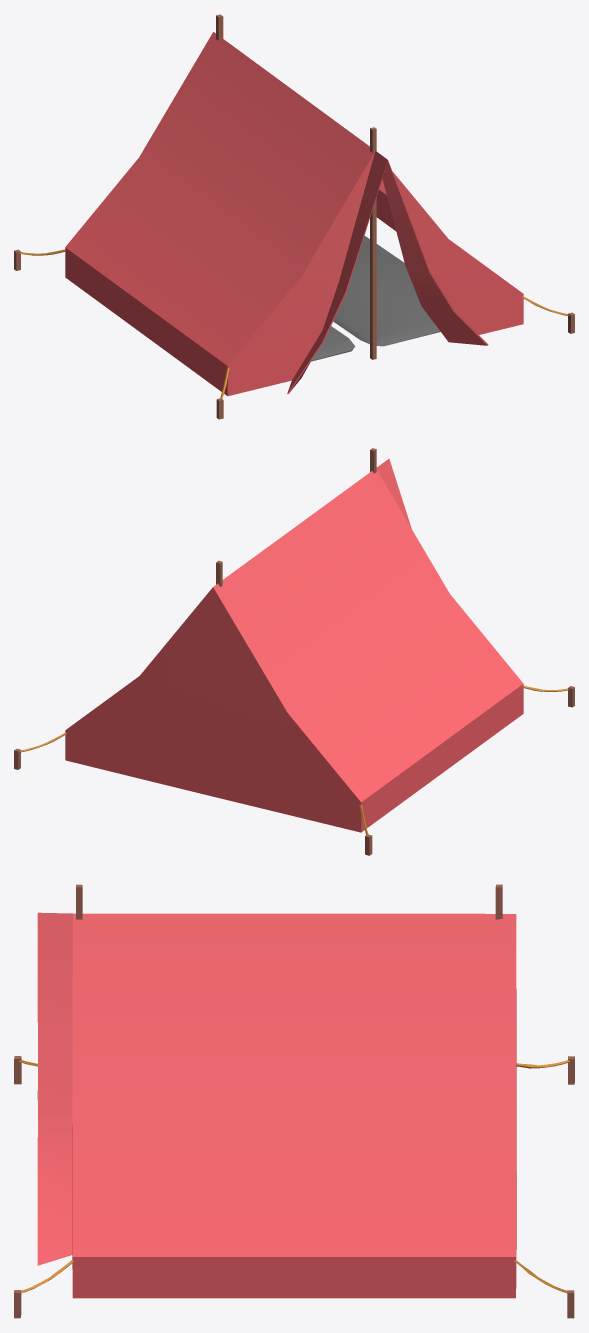
The model's file is camp_tent.fbx.
3 views of the same model, one above another, from view 1: azimuth 30°, elevation 25°; view 2: azimuth 150°, elevation 25°; view 3: azimuth 270°, elevation 25° (orthographic). The views are drawn at different scales.
Parts seen in each view (by area): view 1: camp_tent; view 2: camp_tent; view 3: camp_tent.
Boxes of the visible parts, x1=… form: camp_tent: x1=14, y1=14, x2=574, y2=419; camp_tent: x1=14, y1=448, x2=574, y2=855; camp_tent: x1=14, y1=884, x2=574, y2=1318.
Size of the model in its own units: 31.63 by 19.54 by 31.63.
